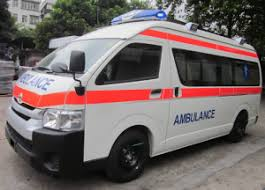Ambulance: (6, 10, 265, 181)
